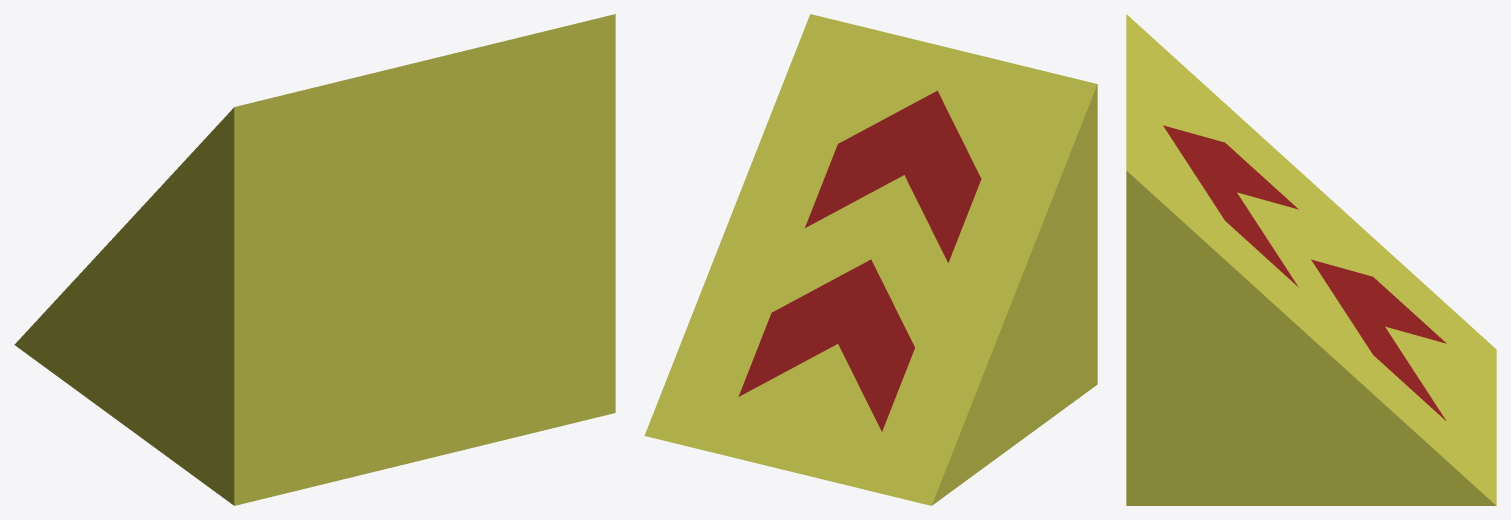
File: ramp.fbx
3 renders of one model, left to right at view 1: azimuth 30°, elevation 25°; view 2: azimuth 150°, elevation 25°; view 3: azimuth 270°, elevation 25°, orthographic. The views are drawn at different scales.
Parts seen in each view (by area): view 1: Cube; view 2: Cube; view 3: Cube.
Boxes of the visible parts, bbox=[...] form: Cube: bbox=[14, 14, 615, 505]; Cube: bbox=[644, 14, 1097, 505]; Cube: bbox=[1126, 14, 1496, 505].
Size of the model in its own units: 200 by 200 by 200.
